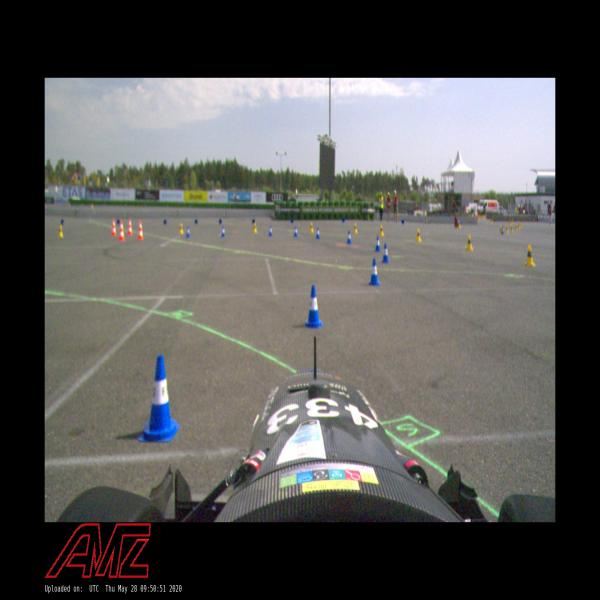blue_cone: (139, 354, 179, 442), (304, 285, 323, 330), (368, 258, 382, 286), (381, 243, 390, 263), (374, 236, 381, 252), (346, 230, 352, 244), (268, 224, 273, 236), (221, 226, 226, 237), (186, 225, 190, 238), (316, 228, 320, 240), (294, 226, 298, 237), (501, 226, 504, 234)
large_orange_cone: (117, 220, 125, 241), (137, 220, 144, 241), (126, 217, 133, 236), (111, 218, 117, 236)
yellow_cone: (524, 244, 535, 267), (465, 235, 473, 251), (415, 228, 422, 242), (58, 224, 63, 238), (179, 222, 184, 235), (379, 224, 384, 236), (309, 222, 314, 232), (353, 223, 358, 233), (253, 222, 257, 234), (499, 225, 502, 233), (506, 225, 508, 233)
